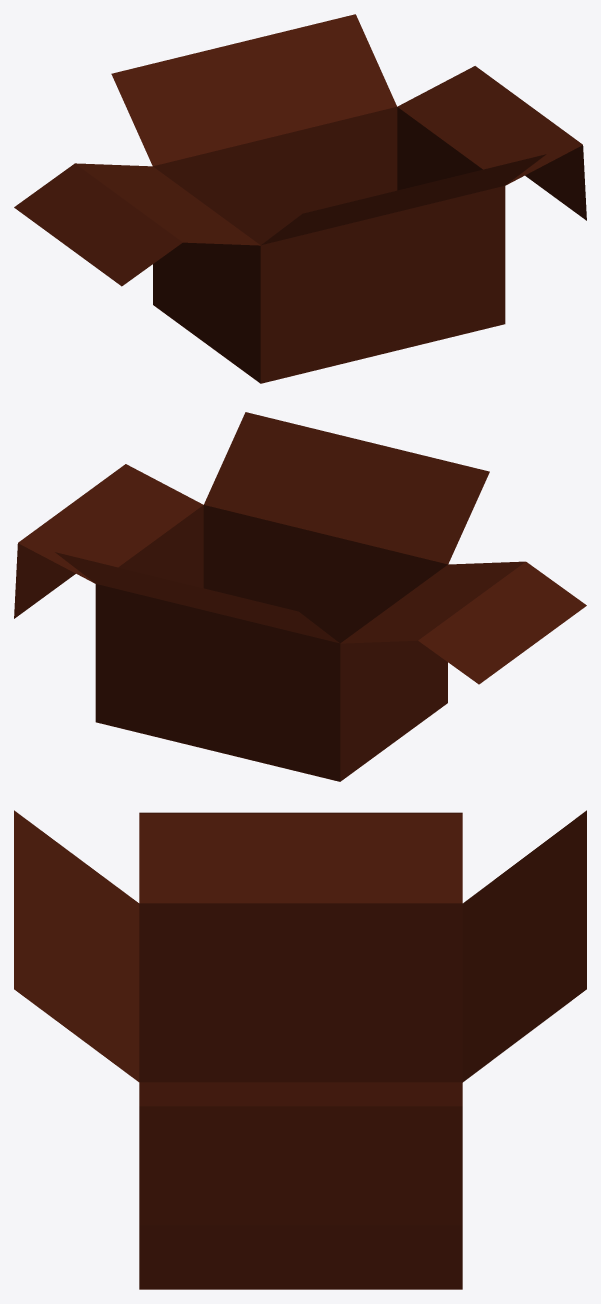
The model's file is doos.fbx.
3 renders of one model, top to bottom at view 1: azimuth 30°, elevation 25°; view 2: azimuth 150°, elevation 25°; view 3: azimuth 270°, elevation 25°, orthographic. The views are drawn at different scales.
Visible parts, largest first — view 1: doos; view 2: doos; view 3: doos.
Boxes of the visible parts, bbox=[...] form: doos: bbox=[14, 14, 586, 383]; doos: bbox=[14, 412, 586, 781]; doos: bbox=[14, 810, 586, 1289].
Bounding box in the file's own units: 115 × 47.4 × 81.81.
